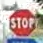stop: (8, 8, 36, 36)
